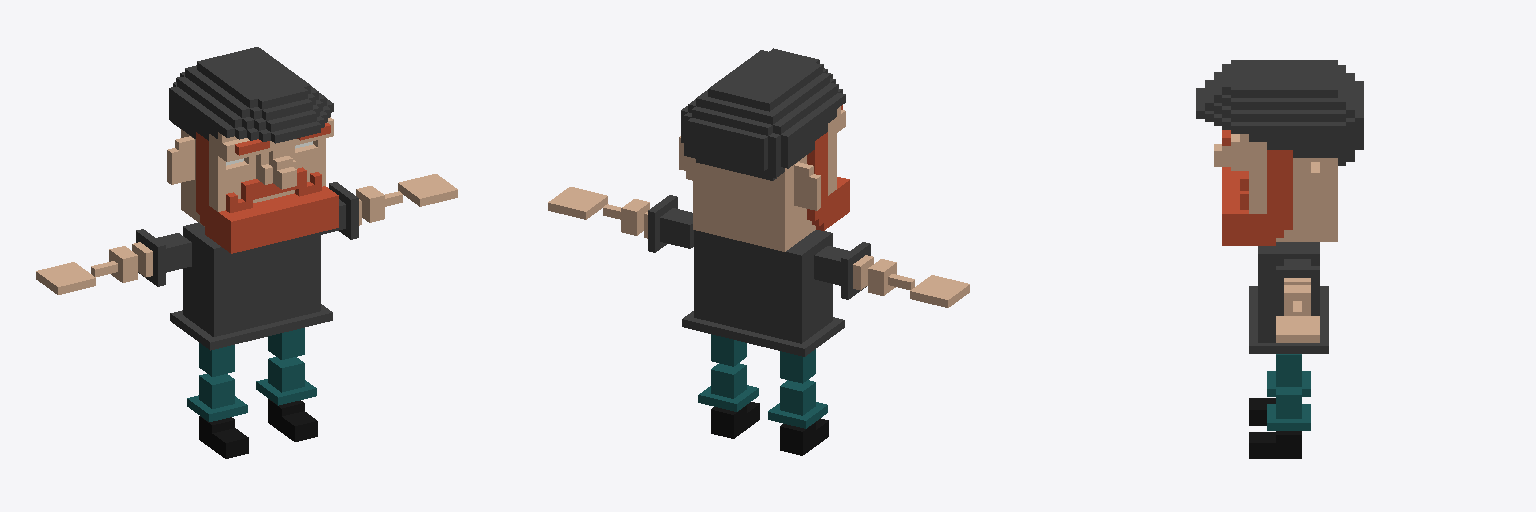
3 views of the same model, side by side, from view 1: azimuth 30°, elevation 25°; view 2: azimuth 150°, elevation 25°; view 3: azimuth 270°, elevation 25° (orthographic).
Parts seen in each view (by area): view 1: Mesh polySurface4, Mesh polySurface5, polySurface12, polySurface15 polySurface1, Mesh polySurface9, Mesh polySurface6, Mesh polySurface10, Mesh polySurface7, polySurface1 polySurface17, polySurface1 polySurface16, Mesh polySurface8, polySurface11 Mesh; view 2: Mesh polySurface4, Mesh polySurface5, polySurface12, polySurface15 polySurface1, Mesh polySurface9, Mesh polySurface6, polySurface1 polySurface17, Mesh polySurface7, Mesh polySurface10, polySurface1 polySurface16, Mesh polySurface8, polySurface11 Mesh; view 3: Mesh polySurface4, Mesh polySurface5, polySurface12, Mesh polySurface9, Mesh polySurface10, polySurface11 Mesh, Mesh polySurface7.
Boxes of the visible parts, box(x1,y1,x2,y2) form: Mesh polySurface4: box(167, 47, 338, 253); Mesh polySurface5: box(170, 222, 332, 350); polySurface12: box(321, 174, 457, 239); polySurface15 polySurface1: box(132, 229, 191, 286); Mesh polySurface9: box(256, 357, 316, 405); Mesh polySurface6: box(187, 374, 247, 421); Mesh polySurface10: box(268, 399, 317, 441); Mesh polySurface7: box(199, 416, 248, 458); polySurface1 polySurface17: box(36, 262, 95, 294); polySurface1 polySurface16: box(91, 246, 137, 282); Mesh polySurface8: box(199, 343, 234, 376); polySurface11 Mesh: box(268, 328, 304, 359); Mesh polySurface4: box(679, 48, 849, 251); Mesh polySurface5: box(682, 230, 844, 356); polySurface12: box(548, 187, 693, 252); polySurface15 polySurface1: box(814, 242, 873, 299); Mesh polySurface9: box(698, 363, 758, 411); Mesh polySurface6: box(768, 380, 827, 428); polySurface1 polySurface17: box(910, 275, 969, 307); Mesh polySurface7: box(780, 418, 828, 455); Mesh polySurface10: box(711, 402, 759, 438); polySurface1 polySurface16: box(868, 259, 914, 295); Mesh polySurface8: box(780, 349, 815, 383); polySurface11 Mesh: box(711, 334, 746, 366); Mesh polySurface4: box(1196, 60, 1363, 245); Mesh polySurface5: box(1249, 242, 1328, 353); polySurface12: box(1276, 259, 1319, 342); Mesh polySurface9: box(1267, 387, 1310, 430); Mesh polySurface10: box(1249, 431, 1301, 458); polySurface11 Mesh: box(1276, 354, 1301, 386); Mesh polySurface7: box(1249, 398, 1275, 425).
Size of the model in its own units: 5.21 by 4.5 by 1.9.
Materials: 1 (1 with a texture image).